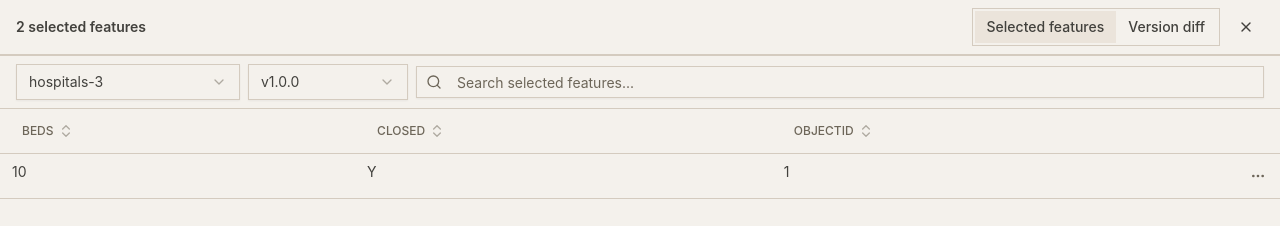
Scenario: FeatureTablePanel › renders version diff rows for two versions of the same file
Click the button "Version diff": (1167, 27) [1116,11,1217,43]
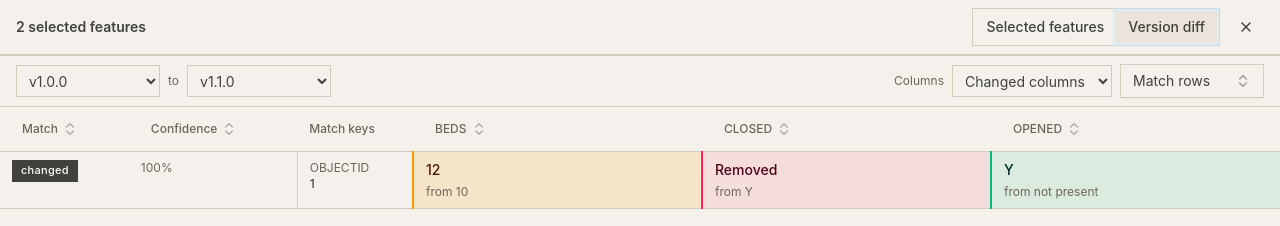
Now the dropdown named "Left version" shows "v1.0.0", box [16,65,160,97]
Now the dropdown named "Right version" shows "v1.1.0", box [187,65,331,97]
Now the button with aria-label "Sort by status" reads "Match", box [12,115,88,143]
